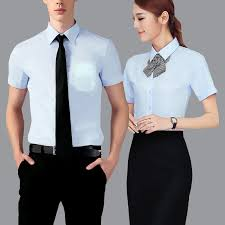F_belt: (22, 139, 103, 160)
F_dress pants: (15, 144, 110, 225)
F_shirt: (6, 20, 125, 148), (118, 39, 223, 134)
F_tailored skirt: (124, 129, 197, 225)
F_tie: (49, 33, 78, 156)
